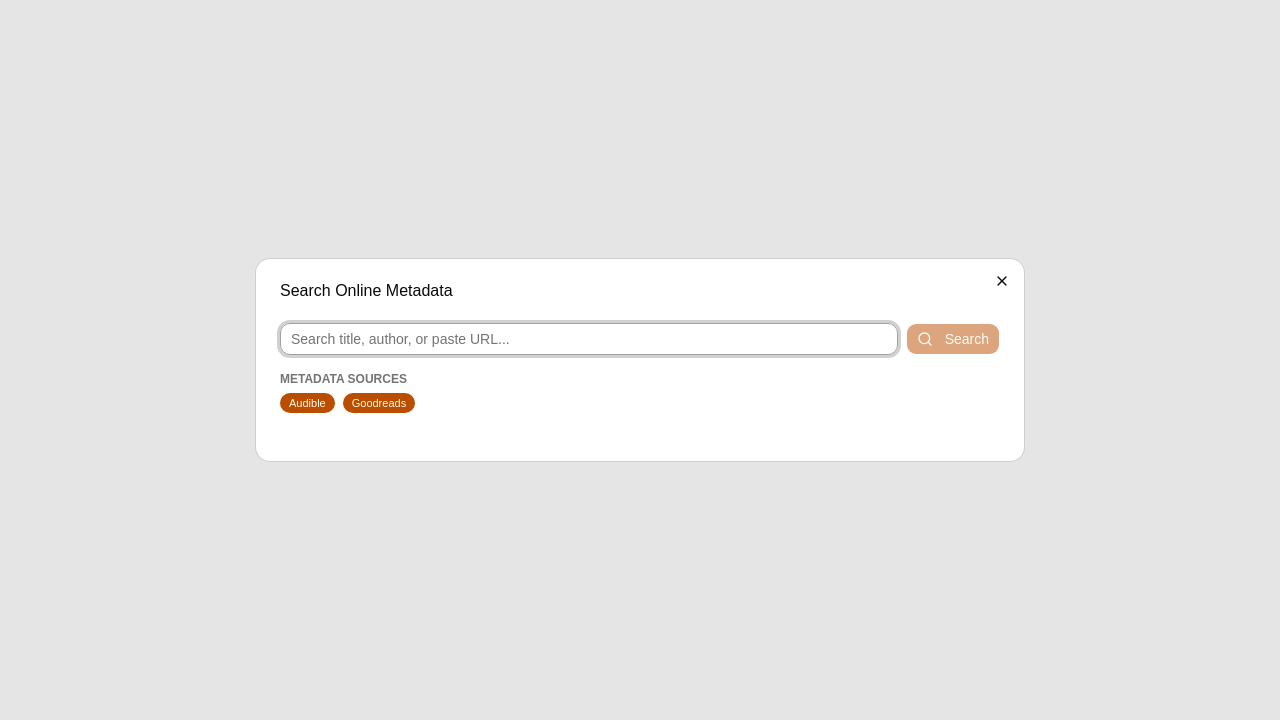
Test case: BookSearchDialog › drops the previous search's source tabs when a pasted URL fails to fetch
Type "mole" into the field with placeholder "Search title, author, or paste URL...". click: coordinates (589, 339)
box: x1=280 y1=323 x2=898 y2=355
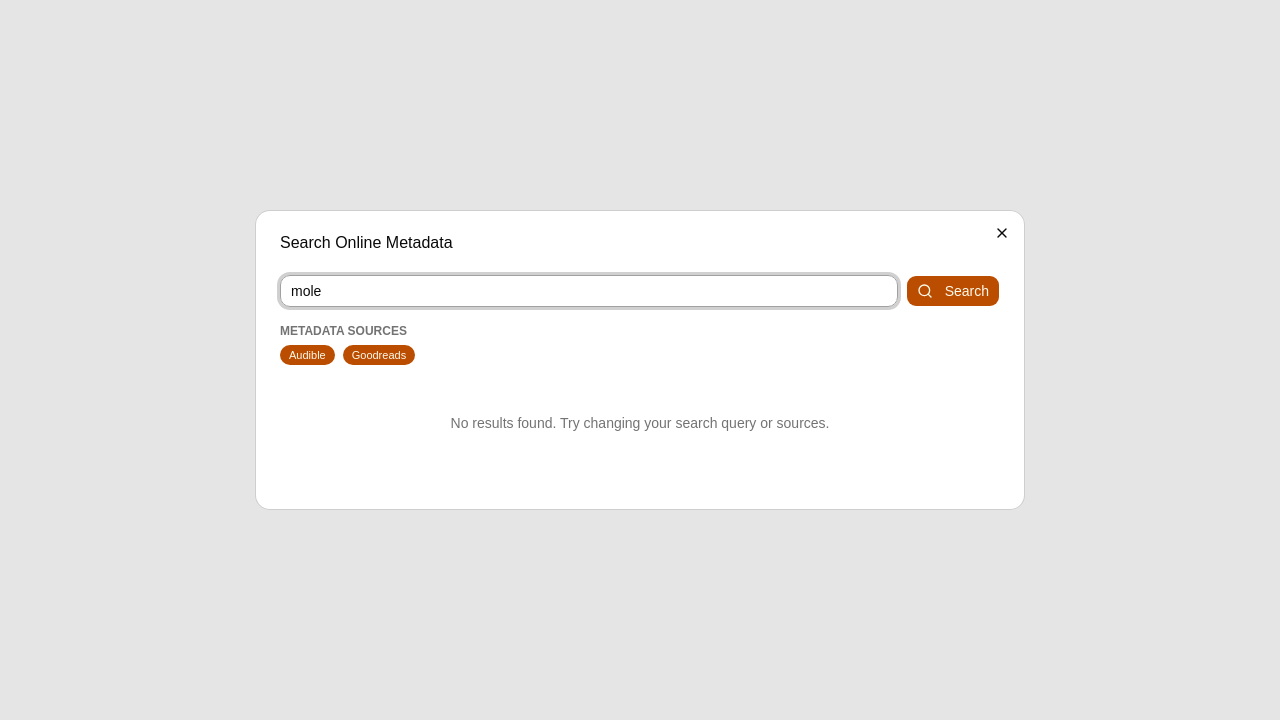
Click the button "Search". click: coordinates (953, 291)
box: x1=906 y1=275 x2=1000 y2=307
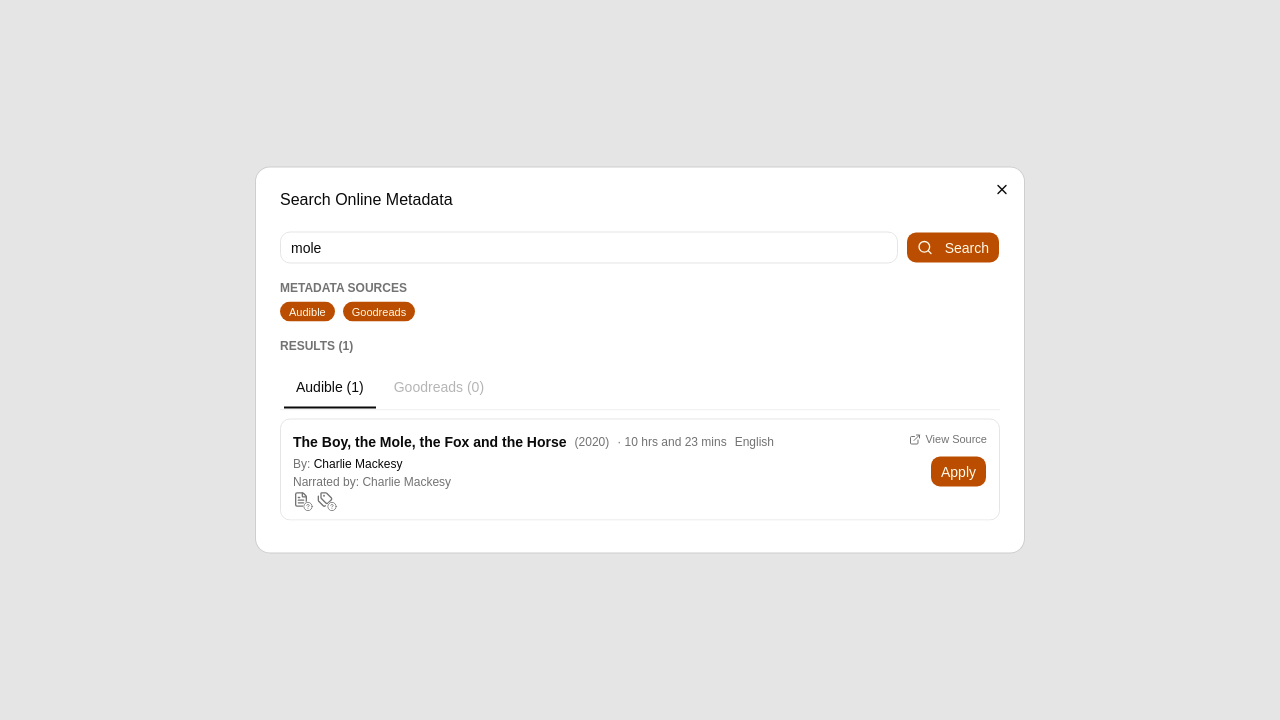
Expected: the tab "Goodreads (0)" is shown, x1=381 y1=368 x2=497 y2=404
Replace the text in the field with placeholder "Search title, author, or paste URL..." with "https://hardcover.app/books/1984". click: coordinates (589, 248)
box: x1=280 y1=232 x2=898 y2=264
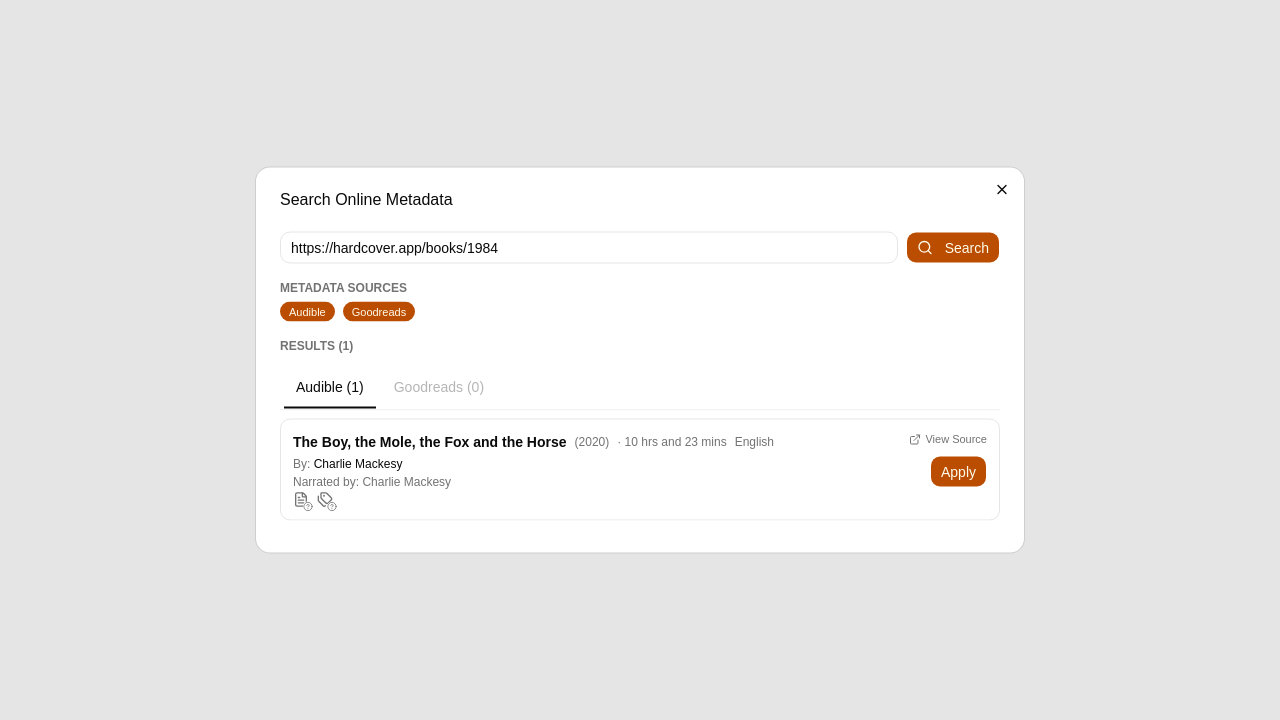
Submit the form from the field with placeholder "Search title, author, or paste URL...", box x1=280 y1=232 x2=898 y2=264
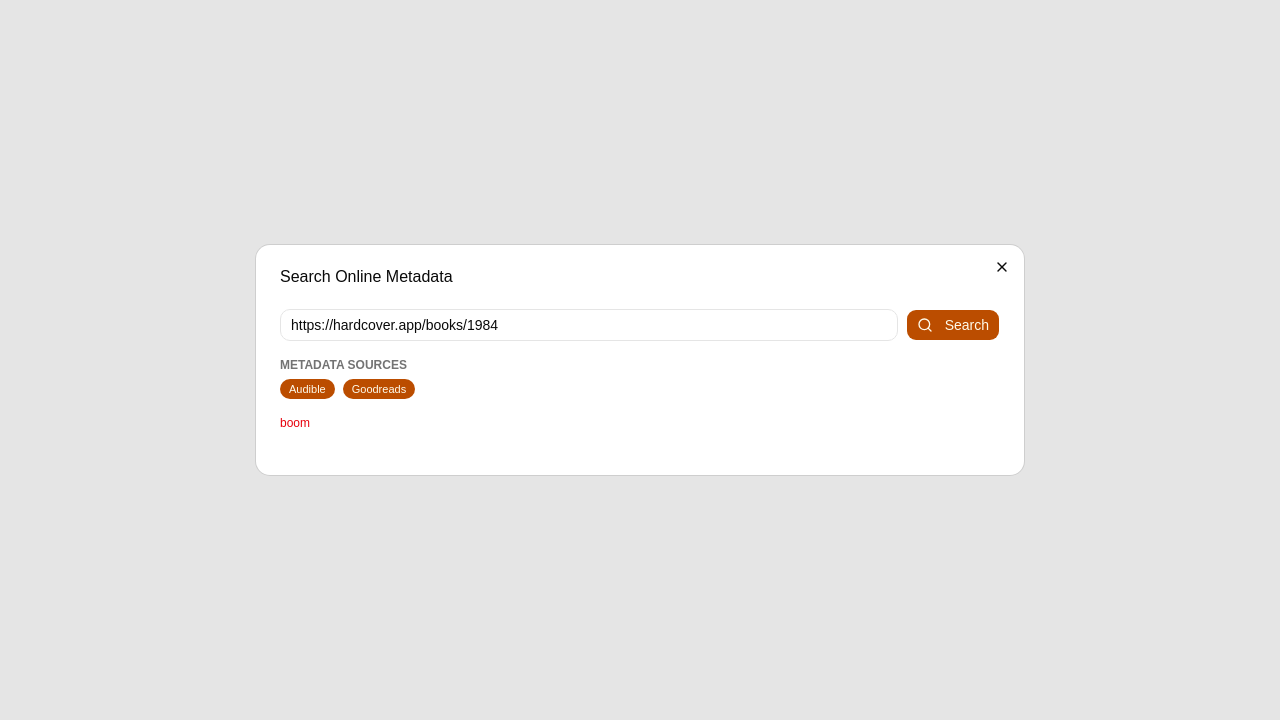
Expected: the text "boom" is shown, x1=280 y1=416 x2=310 y2=430
Expected: the tab is gone
